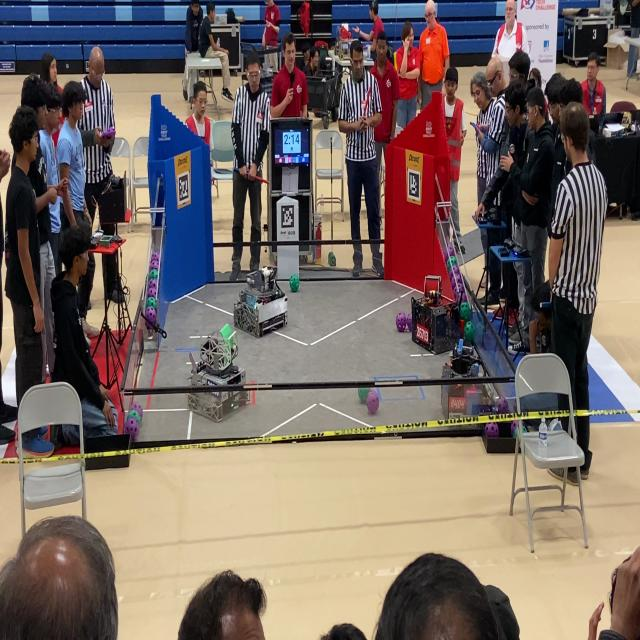artifact_green: (464, 322, 475, 342), (460, 302, 471, 322), (127, 410, 141, 423), (358, 388, 370, 403), (475, 321, 484, 340), (290, 274, 299, 292), (447, 256, 457, 271), (146, 297, 157, 310), (329, 252, 336, 266), (148, 270, 158, 279), (511, 421, 516, 437), (522, 425, 527, 432)
artifact_purple: (366, 390, 379, 414), (496, 396, 509, 413), (145, 307, 156, 327), (124, 418, 138, 433), (396, 312, 406, 332), (485, 422, 498, 437), (130, 402, 143, 417), (453, 280, 463, 299), (148, 279, 158, 296), (130, 424, 139, 441), (455, 284, 463, 303), (454, 283, 461, 302), (454, 270, 463, 284), (147, 285, 157, 297), (452, 272, 462, 284), (511, 421, 518, 437), (452, 264, 461, 276), (446, 247, 455, 259), (458, 279, 465, 294), (456, 289, 463, 304), (455, 271, 463, 284), (452, 282, 458, 299), (407, 313, 412, 332), (449, 273, 455, 287), (461, 290, 468, 302), (150, 260, 159, 269), (148, 279, 158, 287), (448, 270, 455, 280), (151, 252, 159, 260), (448, 271, 454, 281)
